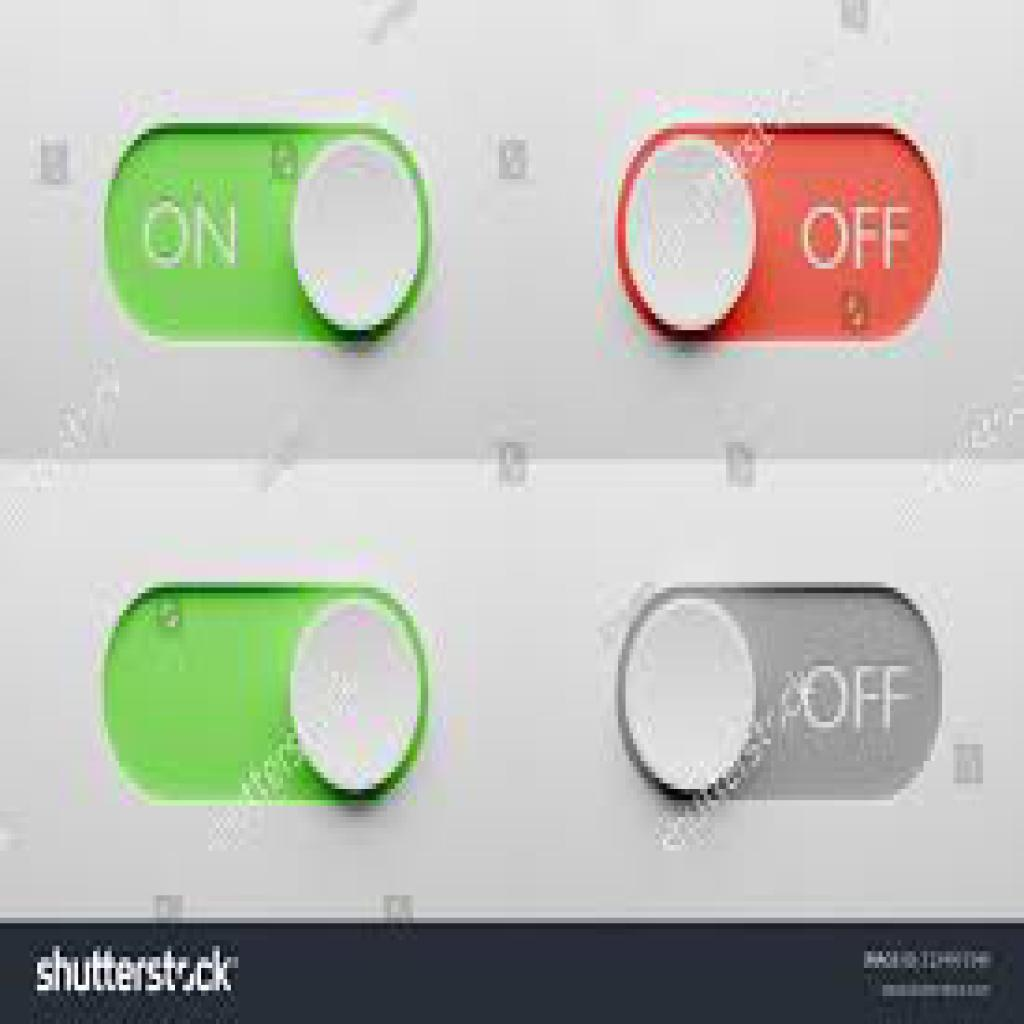switch: (108, 124, 432, 350), (623, 582, 939, 804), (106, 586, 429, 803), (620, 125, 941, 342)
